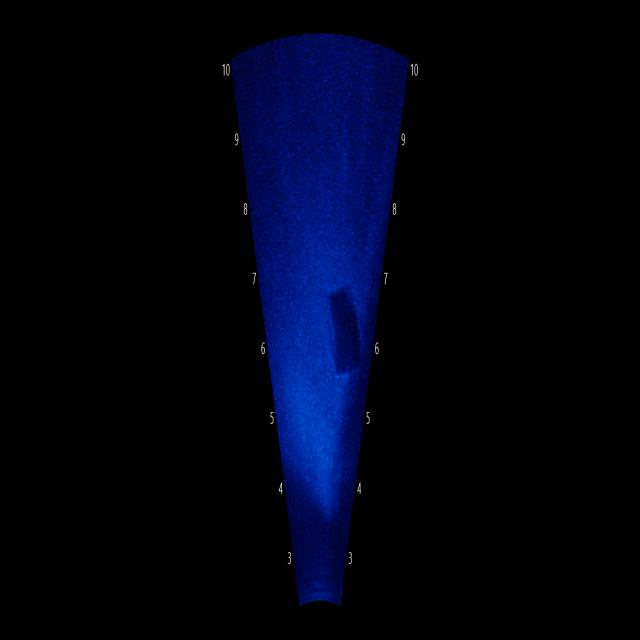square: (319, 291, 370, 392)
